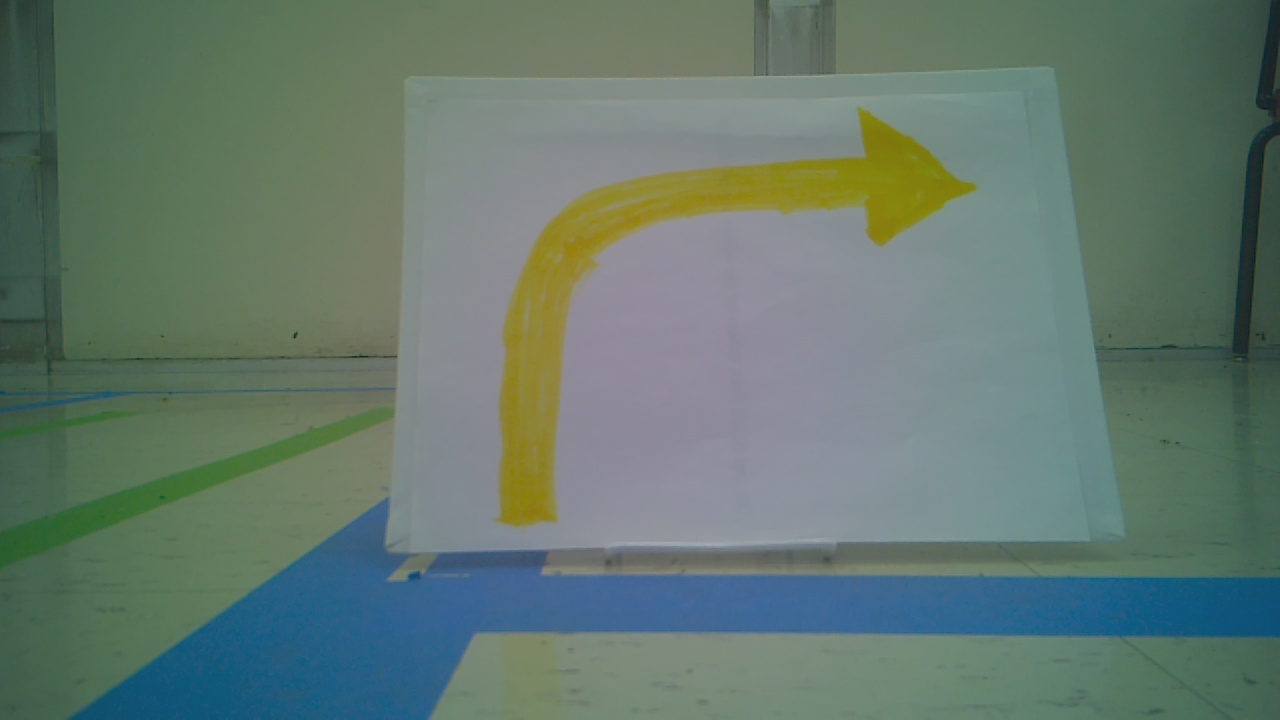right: (496, 86, 983, 524)
